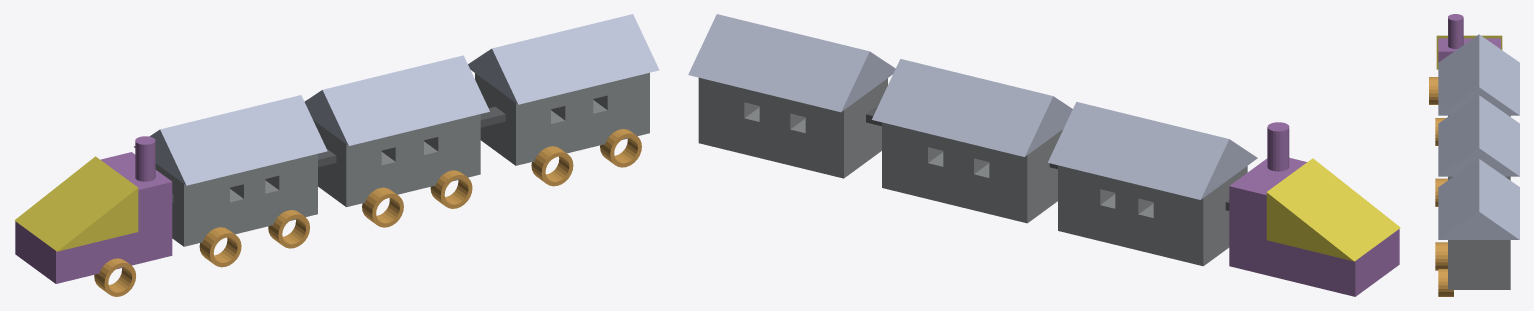
Rendered from 3d-train.glb.
3 renders of one model, left to right at view 1: azimuth 30°, elevation 25°; view 2: azimuth 150°, elevation 25°; view 3: azimuth 270°, elevation 25°, orthographic. The views are drawn at different scales.
Visible parts, largest first — view 1: Mesh_Mesh_head_geo.001_lambert2SG.001; view 2: Mesh_Mesh_head_geo.001_lambert2SG.001; view 3: Mesh_Mesh_head_geo.001_lambert2SG.001.
Part boxes in pixels (x1=…): Mesh_Mesh_head_geo.001_lambert2SG.001: x1=14, y1=14, x2=659, y2=296; Mesh_Mesh_head_geo.001_lambert2SG.001: x1=688, y1=14, x2=1400, y2=296; Mesh_Mesh_head_geo.001_lambert2SG.001: x1=1429, y1=14, x2=1519, y2=296.
Bounding box in the file's own units: 171 × 36 × 29.
